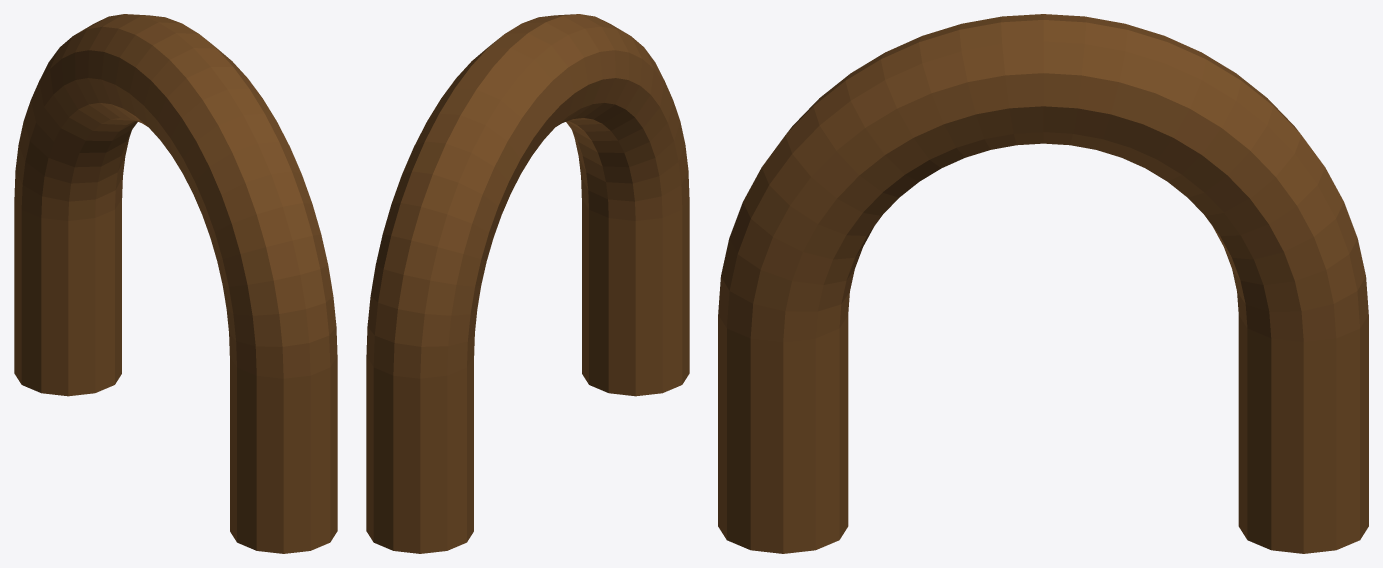
File: kilit_ust_model.fbx
3 renders of one model, left to right at view 1: azimuth 30°, elevation 25°; view 2: azimuth 150°, elevation 25°; view 3: azimuth 270°, elevation 25°, orthographic. The views are drawn at different scales.
Visible parts, largest first — view 1: Torus; view 2: Torus; view 3: Torus.
Boxes of the visible parts, x1,y1,x2,y2 form: Torus: (14, 14, 337, 553); Torus: (366, 14, 689, 553); Torus: (718, 14, 1368, 553).
Bounding box in the file's own units: 5.57 × 23.93 × 27.86.
